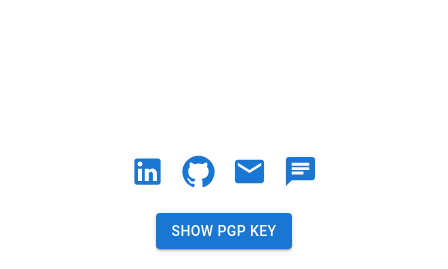
Test: renders profile component
The width and height of the screenshot is (448, 269).
Expected: the button named "LinkedIn" is shown, [122, 146, 173, 197]
Expected: the button named "GitHub" is shown, [173, 146, 224, 197]
Note: Simulate hover to open popover
Hover over the button named "XMPP" at (300, 171), box [275, 146, 326, 197]
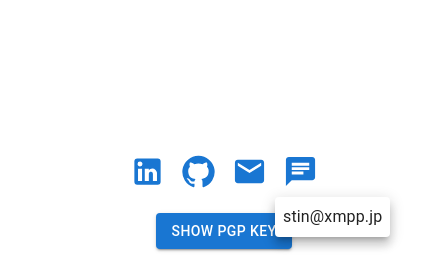
Expected: the text "stin@xmpp.jp" is shown, [283, 207, 382, 226]
